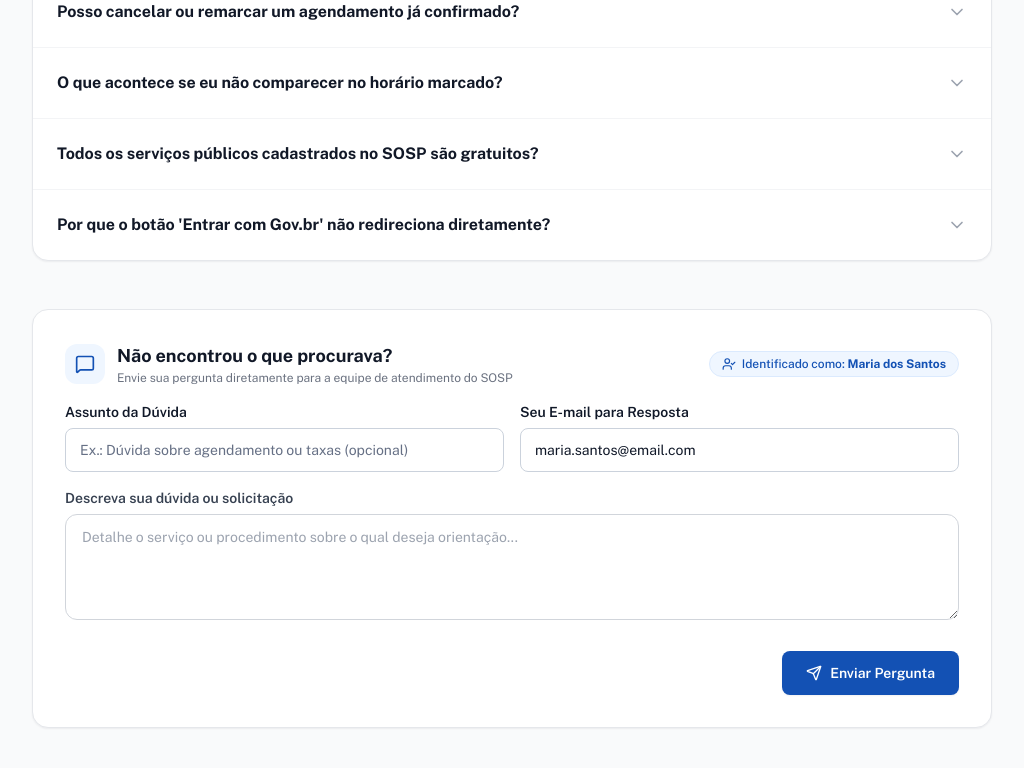
Test: FAQ Autenticado & Auth Guard (RF-11, UC-14, RN-28) › Cenário 2: Cidadão Autenticado › deve submeter a dúvida e exibir confirmação com protocolo gerado
The width and height of the screenshot is (1024, 768).
(page scrolled)
Type "Agendamento RG Centro" into the field labelled "Assunto da Dúvida" at (284, 450), box [65, 428, 504, 472]
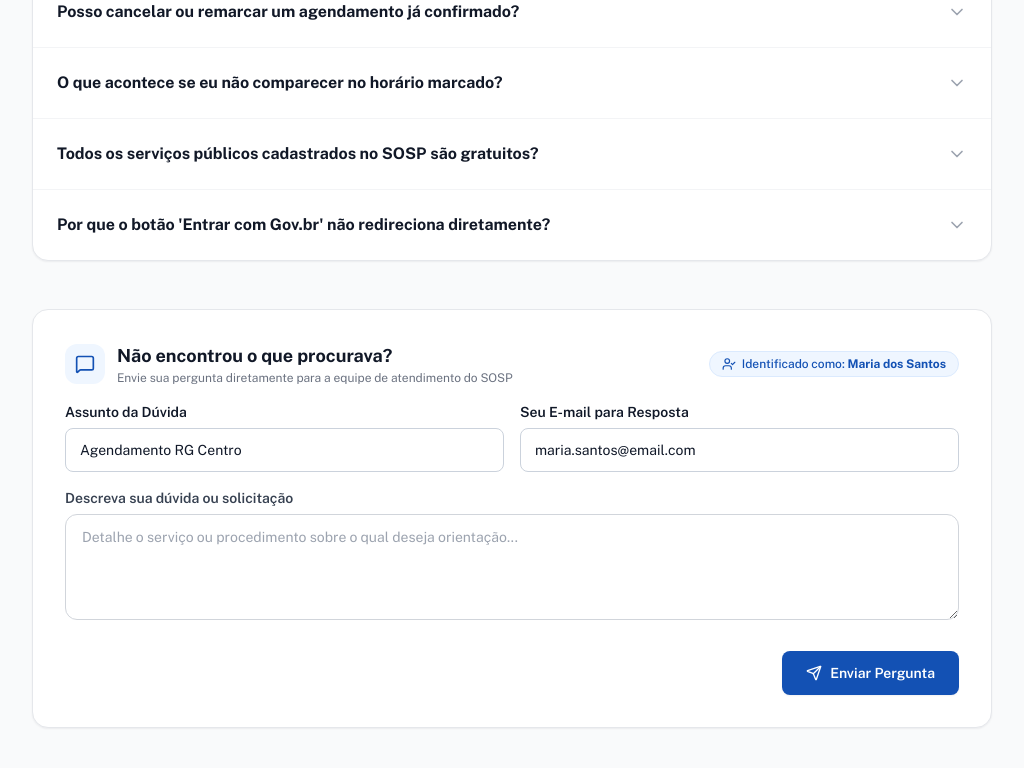
Replace the text in the text box labelled "Descreva sua dúvida ou solicitação" with "Gostaria de saber se a 1ª via do RG precisa de foto 3x4 impressa." at (512, 566), box [65, 514, 959, 620]
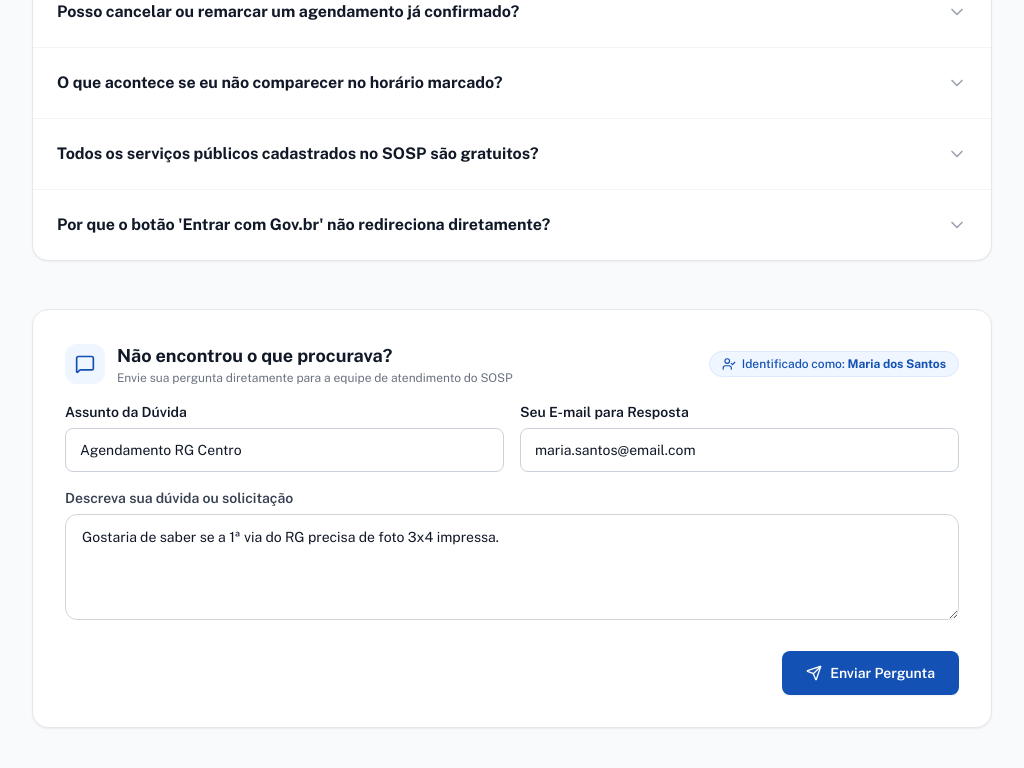
Click the button "Enviar Pergunta" at (871, 672), box [782, 650, 959, 694]
(page scrolled)
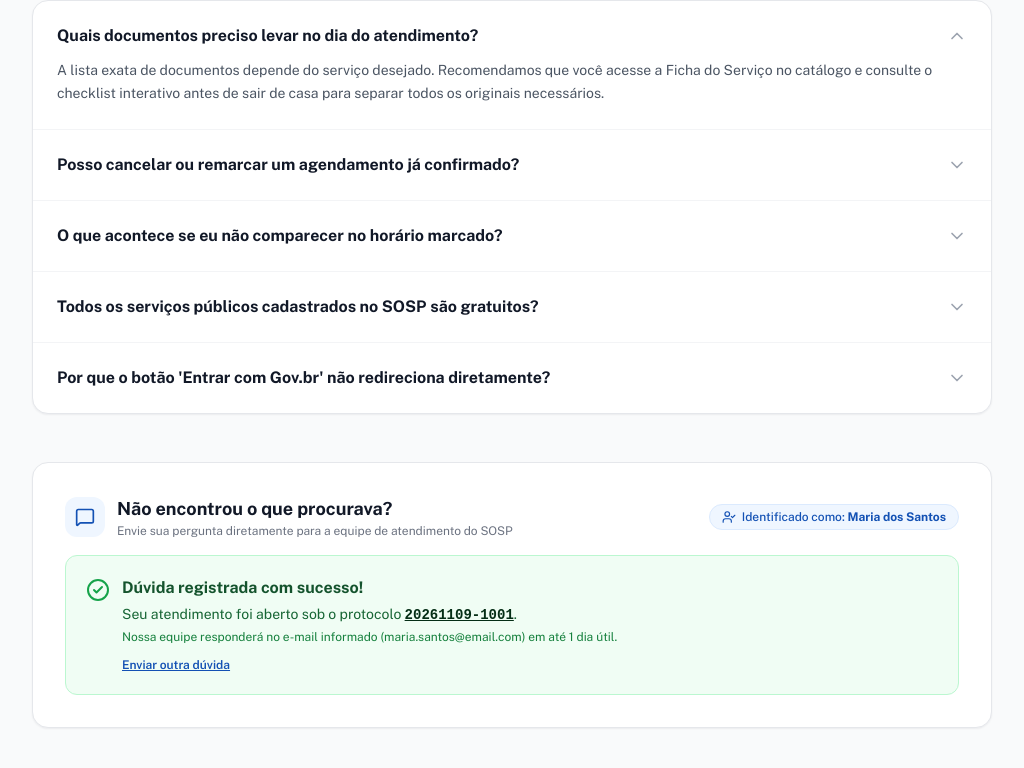
Expected: the element with test id "faq-success-banner" is shown, [65, 554, 959, 694]
Expected: the text "20261109-1001" is shown, [405, 606, 514, 622]
